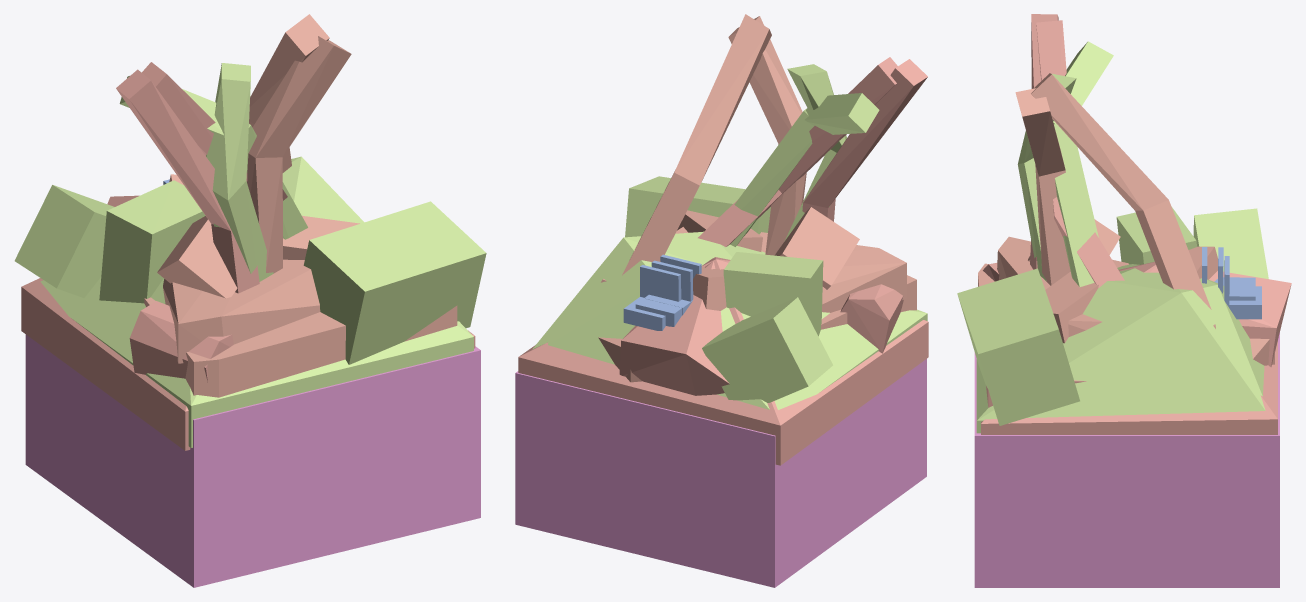
The model's file is fob.glb.
The picture shows the model from 3 angles, left to right: view 1: azimuth 30°, elevation 25°; view 2: azimuth 150°, elevation 25°; view 3: azimuth 270°, elevation 25°; orthographic projection. The views are drawn at different scales.
Visible parts, largest first — view 1: S1|SM_Foundation_FOB#0, S7|SM_FOB_Destroyed_Valkyra#0, S3|SM_FOB_Destroyed_Lonestar#0, S5|SM_FOB_Destroyed_Manticore#0; view 2: S1|SM_Foundation_FOB#0, S7|SM_FOB_Destroyed_Valkyra#0, S5|SM_FOB_Destroyed_Manticore#0, S3|SM_FOB_Destroyed_Lonestar#0, S4|SM_FOB_InHand_01a#0, S6|SM_FOB_InHand_01a#0, S2|SM_FOB_InHand_01a#0; view 3: S7|SM_FOB_Destroyed_Valkyra#0, S1|SM_Foundation_FOB#0, S3|SM_FOB_Destroyed_Lonestar#0, S5|SM_FOB_Destroyed_Manticore#0, S4|SM_FOB_InHand_01a#0, S6|SM_FOB_InHand_01a#0, S2|SM_FOB_InHand_01a#0.
Part boxes in pixels (x1=…): S1|SM_Foundation_FOB#0: x1=25, y1=334, x2=480, y2=587; S7|SM_FOB_Destroyed_Valkyra#0: x1=14, y1=63, x2=486, y2=447; S3|SM_FOB_Destroyed_Lonestar#0: x1=144, y1=14, x2=457, y2=397; S5|SM_FOB_Destroyed_Manticore#0: x1=21, y1=62, x2=475, y2=450; S1|SM_Foundation_FOB#0: x1=515, y1=359, x2=926, y2=587; S7|SM_FOB_Destroyed_Valkyra#0: x1=532, y1=64, x2=927, y2=409; S5|SM_FOB_Destroyed_Manticore#0: x1=518, y1=57, x2=928, y2=465; S3|SM_FOB_Destroyed_Lonestar#0: x1=598, y1=14, x2=916, y2=382; S4|SM_FOB_InHand_01a#0: x1=623, y1=265, x2=681, y2=330; S6|SM_FOB_InHand_01a#0: x1=635, y1=260, x2=693, y2=326; S2|SM_FOB_InHand_01a#0: x1=644, y1=254, x2=701, y2=315; S7|SM_FOB_Destroyed_Valkyra#0: x1=957, y1=41, x2=1268, y2=433; S1|SM_Foundation_FOB#0: x1=974, y1=332, x2=1279, y2=587; S3|SM_FOB_Destroyed_Lonestar#0: x1=978, y1=73, x2=1274, y2=407; S5|SM_FOB_Destroyed_Manticore#0: x1=981, y1=14, x2=1291, y2=434; S4|SM_FOB_InHand_01a#0: x1=1224, y1=256, x2=1261, y2=319; S6|SM_FOB_InHand_01a#0: x1=1218, y1=247, x2=1255, y2=300; S2|SM_FOB_InHand_01a#0: x1=1202, y1=247, x2=1239, y2=296.
Size of what is drawn, in the model's own units: 4.66 by 6.86 by 4.55.
